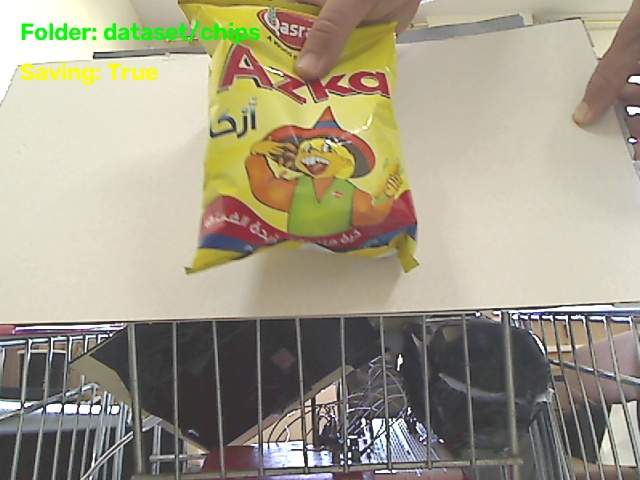chips: (179, 0, 416, 271)
